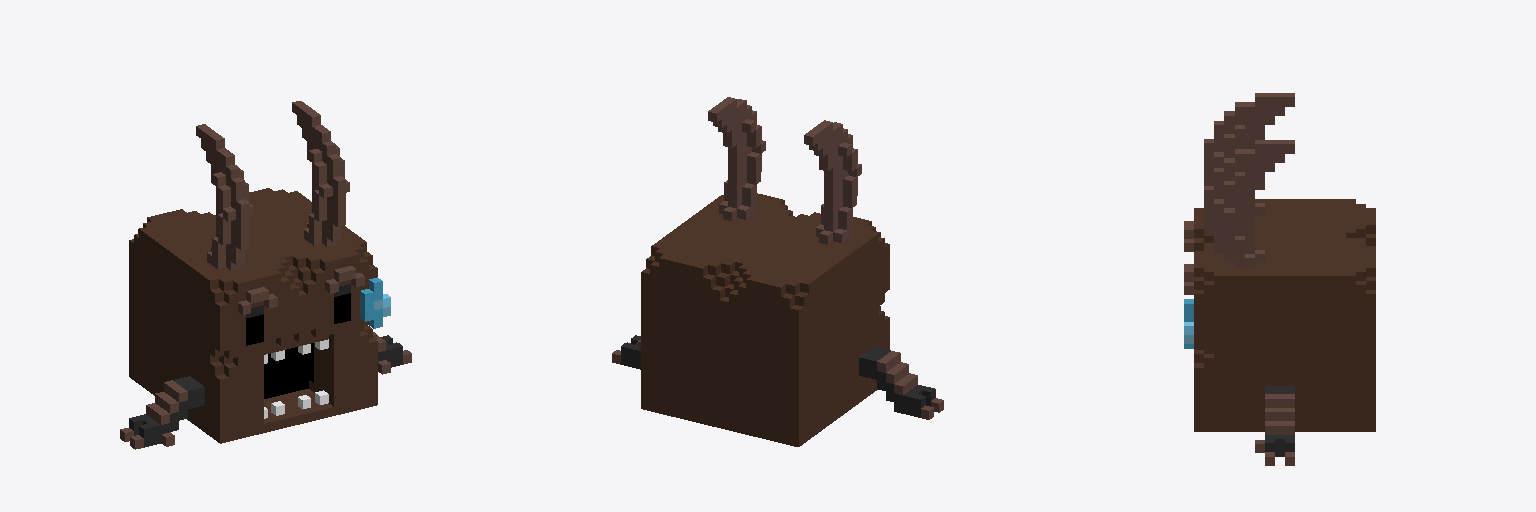
3 views of the same model, side by side, from view 1: azimuth 30°, elevation 25°; view 2: azimuth 150°, elevation 25°; view 3: azimuth 270°, elevation 25° (orthographic).
Parts seen in each view (by area): view 1: monster1_die1; view 2: monster1_die1; view 3: monster1_die1.
Boxes of the visible parts, box(x1,y1,x2,y2) form: monster1_die1: box(120, 101, 411, 449); monster1_die1: box(612, 97, 943, 446); monster1_die1: box(1184, 93, 1375, 465).
Size of the model in its own units: 34 by 30 by 19.
1 materials, 1 textured.